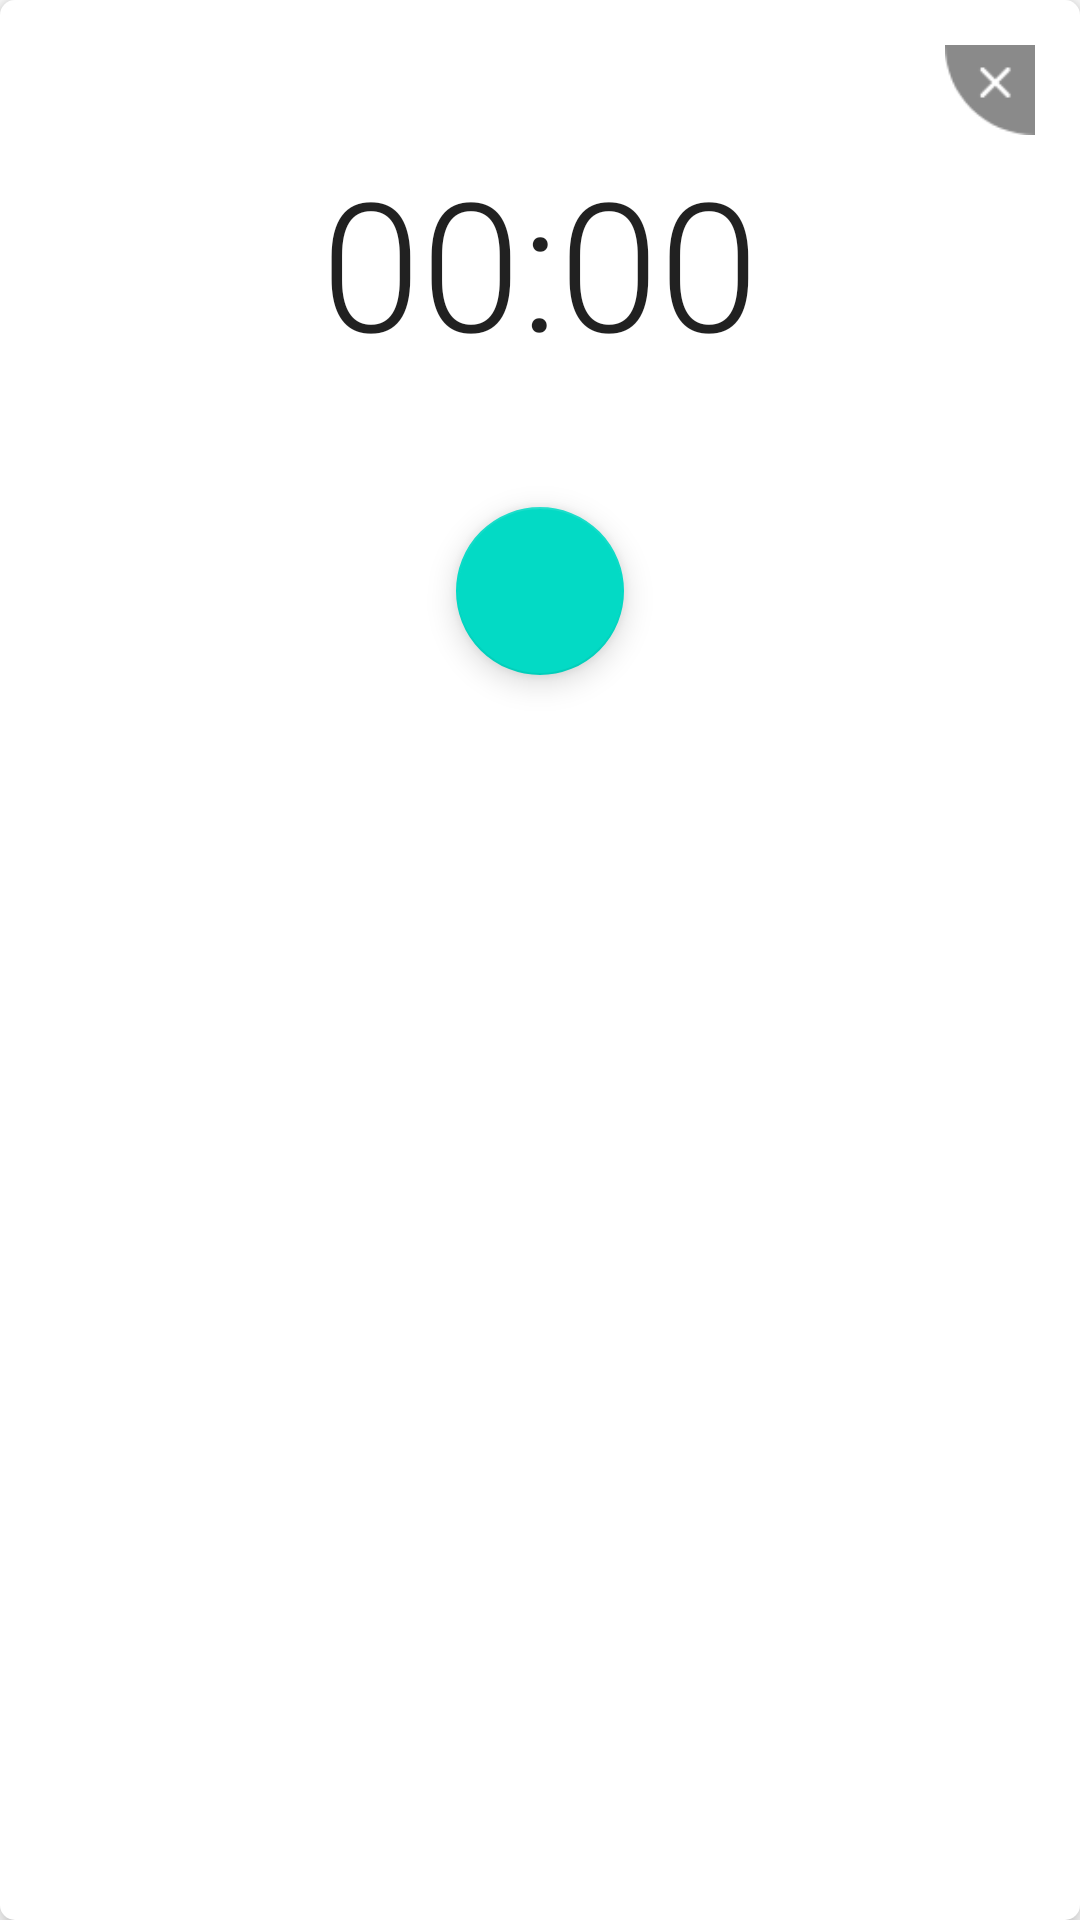

Point at icon controls on the screen. Image size 1080 x 1920, points as [x,y].
base recording close: [990,90]
